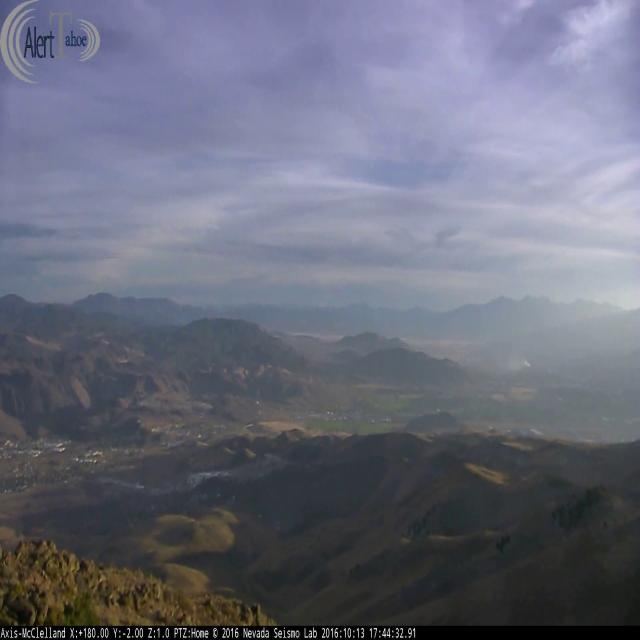smoke: (505, 354, 530, 371)
